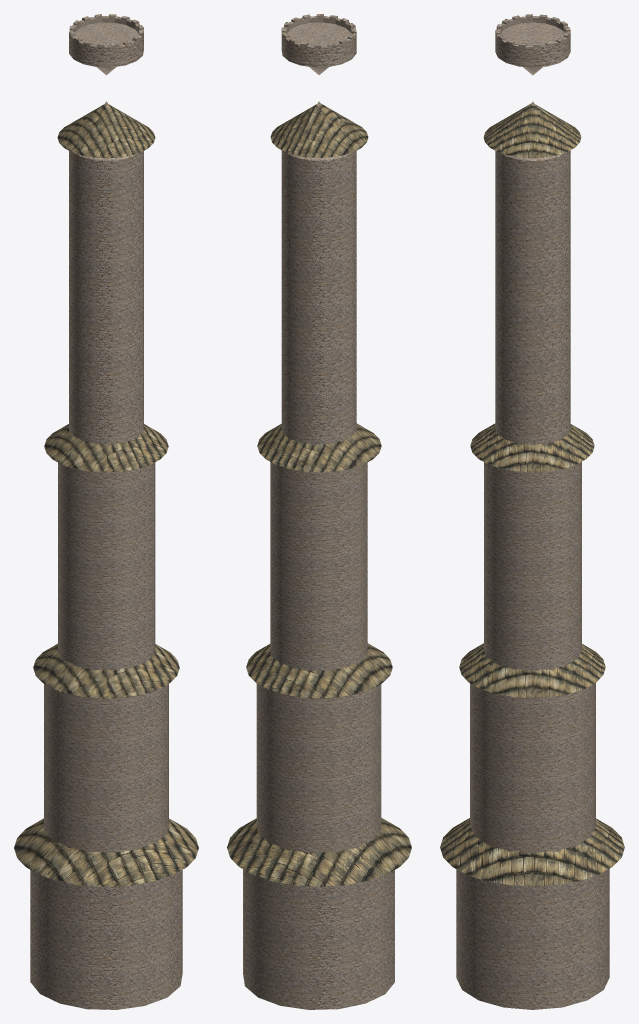
Rendered from tower_placeholder.FBX.
The picture shows the model from 3 angles, left to right: view 1: azimuth 30°, elevation 25°; view 2: azimuth 150°, elevation 25°; view 3: azimuth 270°, elevation 25°; orthographic projection.
Parts seen in each view (by area): view 1: tower_body, tower_roofs, tower_top; view 2: tower_body, tower_roofs, tower_top; view 3: tower_body, tower_roofs, tower_top.
Boxes of the visible parts, bbox=[...] form: tower_body: bbox=[30, 101, 182, 1009]; tower_roofs: bbox=[14, 104, 198, 886]; tower_top: bbox=[69, 14, 143, 74]; tower_body: bbox=[243, 101, 394, 1009]; tower_roofs: bbox=[227, 103, 411, 886]; tower_top: bbox=[281, 14, 356, 74]; tower_body: bbox=[456, 101, 609, 1009]; tower_roofs: bbox=[440, 103, 624, 886]; tower_top: bbox=[495, 14, 570, 75].
Size of the model in its own units: 26.33 by 149 by 26.33.
